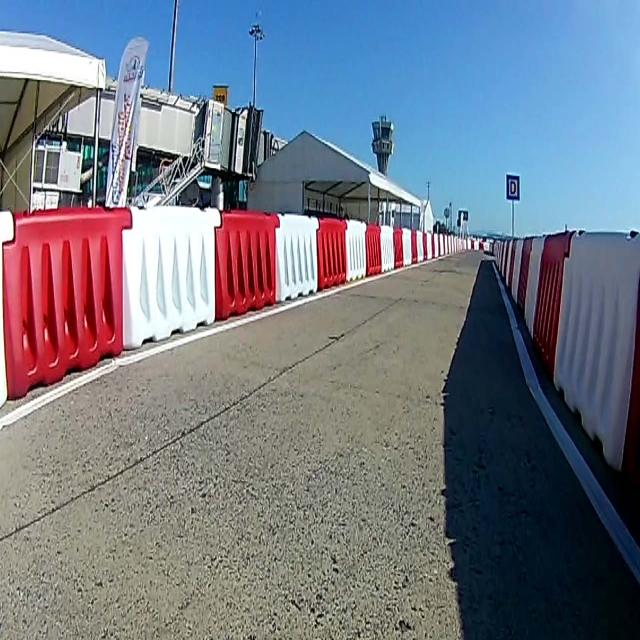durak: (506, 173, 520, 200)
